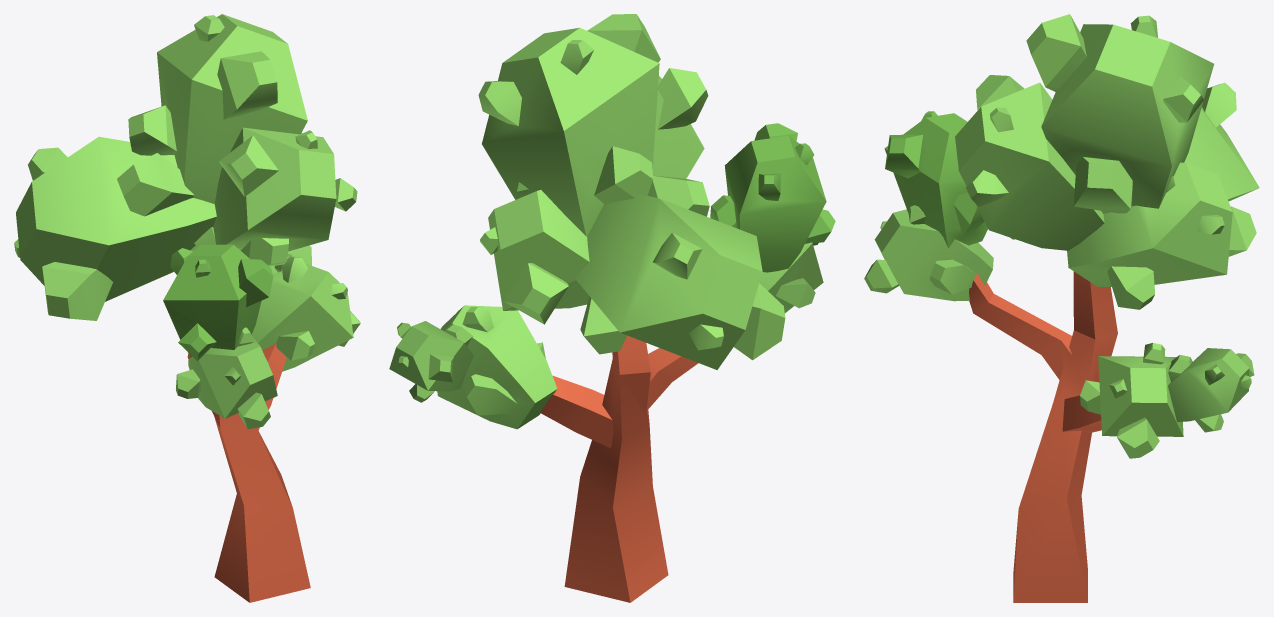
The model's file is tree.glb.
The picture shows the model from 3 angles, left to right: view 1: azimuth 30°, elevation 25°; view 2: azimuth 150°, elevation 25°; view 3: azimuth 270°, elevation 25°; orthographic projection. The views are drawn at different scales.
Parts seen in each view (by area): view 1: BranchesCBranchesuBranchesbBrancheseBranches.Branches0Branc. (×3), Trunk, BranchesCBranchesuBranchesbBrancheseBranches.Branches0Branch, BranchesCBranchesuBranchesbBrancheseBranches.Branches0BrancB, BranchesCBranchesuBranchesbBrancheseBranchesBranch; view 2: BranchesCBranchesuBranchesbBrancheseBranches.Branches0Branc. (×5), Trunk, BranchesCBranchesuBranchesbBrancheseBranches.Branches0Branch, BranchesCBranchesuBranchesbBrancheseBranches.Branches0BrancB, BranchesCBranchesuBranchesbBrancheseBranchesBranch; view 3: BranchesCBranchesuBranchesbBrancheseBranches.Branches0Branc. (×5), Trunk, BranchesCBranchesuBranchesbBrancheseBranches.Branches0Branch, BranchesCBranchesuBranchesbBrancheseBranchesBranch, BranchesCBranchesuBranchesbBrancheseBranches.Branches0BrancB.
Part boxes in pixels (bbox=[...]): BranchesCBranchesuBranchesbBrancheseBranches.Branches0Branc. (×3): bbox=[14, 14, 357, 320]; Trunk: bbox=[187, 343, 310, 602]; BranchesCBranchesuBranchesbBrancheseBranches.Branches0Branch: bbox=[163, 244, 273, 361]; BranchesCBranchesuBranchesbBrancheseBranches.Branches0BrancB: bbox=[251, 256, 360, 371]; BranchesCBranchesuBranchesbBrancheseBranchesBranch: bbox=[176, 327, 277, 429]; BranchesCBranchesuBranchesbBrancheseBranches.Branches0Branc. (×5): bbox=[389, 14, 785, 402]; Trunk: bbox=[540, 335, 698, 602]; BranchesCBranchesuBranchesbBrancheseBranches.Branches0Branch: bbox=[710, 123, 835, 272]; BranchesCBranchesuBranchesbBrancheseBranches.Branches0BrancB: bbox=[437, 305, 557, 429]; BranchesCBranchesuBranchesbBrancheseBranchesBranch: bbox=[759, 242, 823, 313]; BranchesCBranchesuBranchesbBrancheseBranches.Branches0Branc. (×5): bbox=[955, 14, 1259, 432]; Trunk: bbox=[969, 271, 1117, 602]; BranchesCBranchesuBranchesbBrancheseBranches.Branches0Branch: bbox=[884, 111, 987, 248]; BranchesCBranchesuBranchesbBrancheseBranchesBranch: bbox=[864, 205, 993, 301]; BranchesCBranchesuBranchesbBrancheseBranches.Branches0BrancB: bbox=[1080, 343, 1183, 458].
Bounding box in the file's own units: 10.59 × 16.73 × 10.6.
